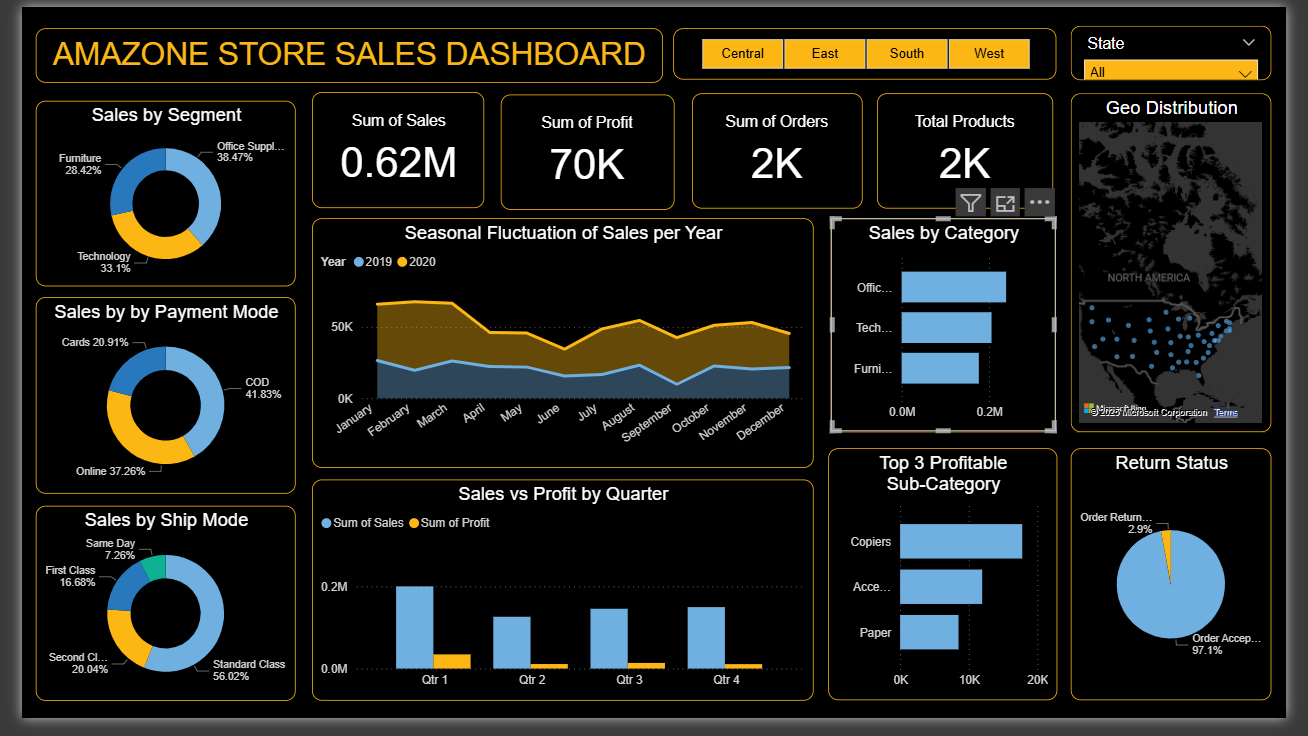

This screenshot's page, from the dashboard's own definition file:
{"tool":"powerbi","page":{"name":"Page 1","canvas":[1280,720],"ordinal":0},"visuals":[{"type":"clusteredBarChart","title":" Sales by Category","fields":{"Y":["Sum(Amazon Store Sales Data xlsx - Sheet1 (1).Sales)"],"Category":["Amazon Store Sales Data xlsx - Sheet1 (1).Category"]},"box":[819.2,214.1,227.8,216.8],"z":0},{"type":"clusteredBarChart","title":"Top 3 Profitable Sub-Category","fields":{"Y":["Sum(Amazon Store Sales Data xlsx - Sheet1 (1).Profit)"],"Category":["Amazon Store Sales Data xlsx - Sheet1 (1).Sub-Category"]},"box":[816.5,447.3,231.9,255.2],"z":1000},{"type":"donutChart","title":"Sales by Segment","fields":{"Category":["Amazon Store Sales Data xlsx - Sheet1 (1).Category"],"Y":["Sum(Amazon Store Sales Data xlsx - Sheet1 (1).Sales)"]},"box":[13.7,94.7,263.5,188],"z":2000},{"type":"donutChart","title":"Sales by Ship Mode","fields":{"Category":["Amazon Store Sales Data xlsx - Sheet1 (1).Ship Mode"],"Y":["CountNonNull(Amazon Store Sales Data xlsx - Sheet1 (1).Product ID)"]},"box":[13.7,505,263.5,197.6],"z":3000},{"type":"donutChart","title":"Sales by by Payment Mode","fields":{"Y":["CountNonNull(Amazon Store Sales Data xlsx - Sheet1 (1).Order ID)"],"Category":["Amazon Store Sales Data xlsx - Sheet1 (1).Payment Mode"]},"box":[13.7,293.7,263.5,199],"z":4000},{"type":"pieChart","title":"Return Status","fields":{"Y":["CountNonNull(Amazon Store Sales Data xlsx - Sheet1 (1).Order ID)"],"Category":["Amazon Store Sales Data xlsx - Sheet1 (1).Return Status"]},"box":[1062.1,447.3,203.1,255.2],"z":5000},{"type":"clusteredColumnChart","title":"Sales vs Profit by Quarter","fields":{"Category":["Amazon Store Sales Data xlsx - Sheet1 (1).Order Date.Variation.Date Hierarchy.Quarter"],"Y":["Sum(Amazon Store Sales Data xlsx - Sheet1 (1).Sales)","Sum(Amazon Store Sales Data xlsx - Sheet1 (1).Profit)"]},"box":[293.7,478.9,507.7,223.7],"z":6000},{"type":"map","title":"Geo Distribution","fields":{"Category":["Amazon Store Sales Data xlsx - Sheet1 (1).State"]},"box":[1062.1,87.8,203.1,343.1],"z":7000},{"type":"stackedAreaChart","title":"Seasonal Fluctuation of Sales per Year","fields":{"Category":["Amazon Store Sales Data xlsx - Sheet1 (1).MonthName"],"Y":["Sum(Amazon Store Sales Data xlsx - Sheet1 (1).Sales)"],"Series":["Amazon Store Sales Data xlsx - Sheet1 (1).Year"]},"box":[293.7,214.1,507.7,252.5],"z":8000},{"type":"textbox","box":[13.7,22,635.3,54.9],"z":9000},{"type":"cardVisual","fields":{"Data":["Sum(Amazon Store Sales Data xlsx - Sheet1 (1).Profit)"]},"box":[484.4,89.2,175.6,116.6],"z":10000},{"type":"cardVisual","fields":{"Data":["Amazon Store Sales Data xlsx - Sheet1 (1).Sum of Orders"]},"box":[677.9,87.8,172.9,116.6],"z":11000},{"type":"cardVisual","fields":{"Data":["Amazon Store Sales Data xlsx - Sheet1 (1).Total Products"]},"box":[865.9,87.8,178.4,116.6],"z":12000},{"type":"slicer","fields":{"Values":["Amazon Store Sales Data xlsx - Sheet1 (1).Region"]},"box":[660,22,388.3,52.1],"z":13000},{"type":"slicer","fields":{"Values":["Amazon Store Sales Data xlsx - Sheet1 (1).State"]},"box":[1062.1,19.2,203.1,54.9],"z":14000},{"type":"cardVisual","title":"Sales","fields":{"Data":["Sum(Amazon Store Sales Data xlsx - Sheet1 (1).Sales)"]},"box":[293.7,86.1,174.7,117.7],"z":15000}]}

Visuals, with their boxes in screenshot pixels (x1, y1, x2, y2), scaled from the page's 1280x720 canvas onto the 1308x736 screenshot:
" Sales by Category" clusteredBarChart: detection(837, 219, 1070, 440)
"Top 3 Profitable Sub-Category" clusteredBarChart: detection(834, 457, 1071, 718)
"Sales by Segment" donutChart: detection(14, 97, 283, 289)
"Sales by Ship Mode" donutChart: detection(14, 516, 283, 718)
"Sales by by Payment Mode" donutChart: detection(14, 300, 283, 504)
"Return Status" pieChart: detection(1085, 457, 1293, 718)
"Sales vs Profit by Quarter" clusteredColumnChart: detection(300, 490, 819, 718)
"Geo Distribution" map: detection(1085, 90, 1293, 440)
"Seasonal Fluctuation of Sales per Year" stackedAreaChart: detection(300, 219, 819, 477)
textbox: detection(14, 22, 663, 79)
cardVisual - Sum(Amazon Store Sales Data xlsx - Sheet1 (1).Profit): detection(495, 91, 674, 210)
cardVisual - Amazon Store Sales Data xlsx - Sheet1 (1).Sum of Orders: detection(693, 90, 869, 209)
cardVisual - Amazon Store Sales Data xlsx - Sheet1 (1).Total Products: detection(885, 90, 1067, 209)
slicer - Amazon Store Sales Data xlsx - Sheet1 (1).Region: detection(674, 22, 1071, 76)
slicer - Amazon Store Sales Data xlsx - Sheet1 (1).State: detection(1085, 20, 1293, 76)
"Sales" cardVisual: detection(300, 88, 479, 208)
